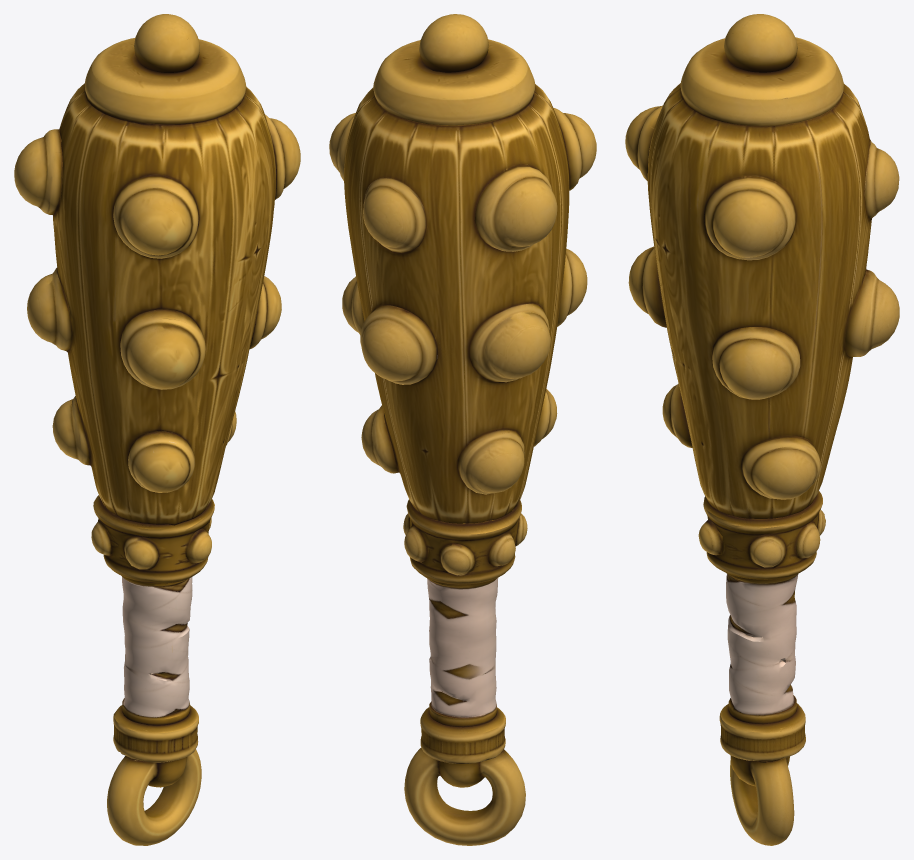
File: BrickGoldWeapon.fbx
3 views of the same model, side by side, from view 1: azimuth 30°, elevation 25°; view 2: azimuth 150°, elevation 25°; view 3: azimuth 270°, elevation 25° (orthographic).
Parts seen in each view (by area): view 1: Mesh0; view 2: Mesh0; view 3: Mesh0.
Boxes of the visible parts, left/top/right/bottom form: Mesh0: left=14, top=14, right=300, bottom=845; Mesh0: left=329, top=14, right=596, bottom=845; Mesh0: left=625, top=14, right=899, bottom=845.
Size of the model in its own units: 59.89 by 190 by 57.13.
1 material, 1 textured.
